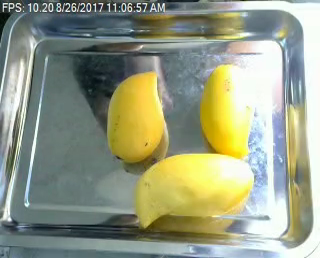Mango: (132, 150, 255, 236), (103, 69, 168, 167), (200, 60, 254, 162)
